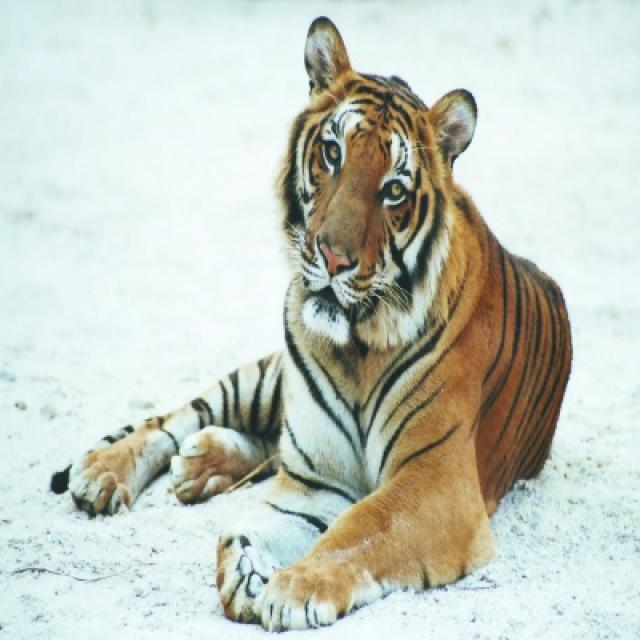Tiger: (67, 19, 571, 629)
